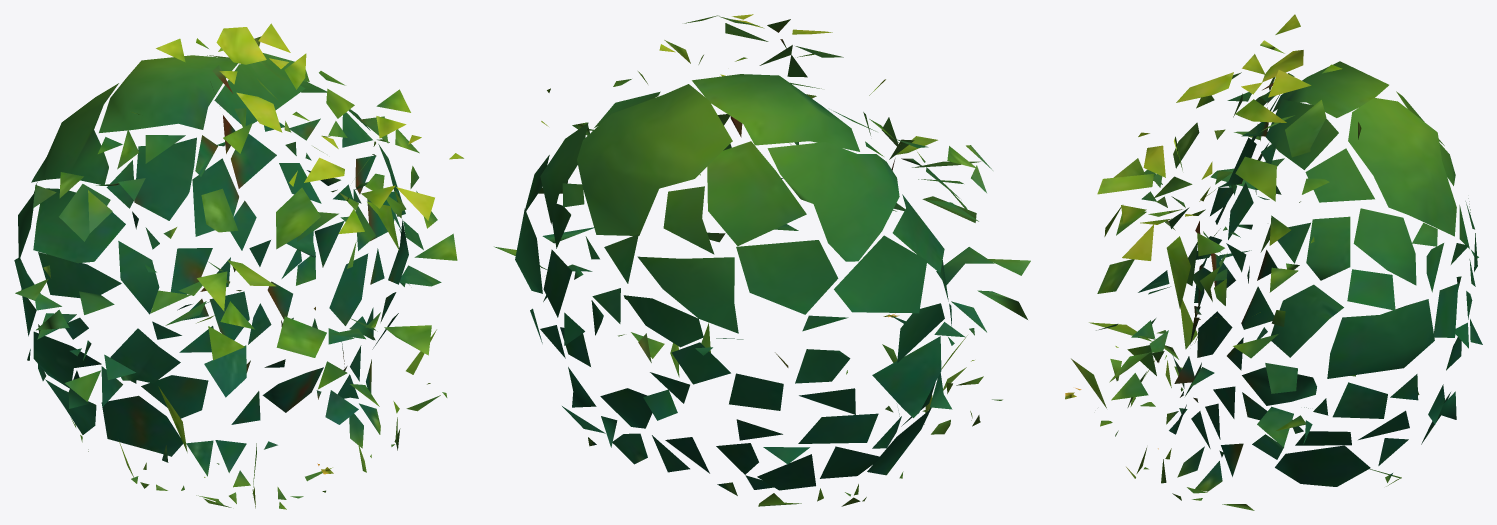
File: bush.glb
The picture shows the model from 3 angles, left to right: view 1: azimuth 30°, elevation 25°; view 2: azimuth 150°, elevation 25°; view 3: azimuth 270°, elevation 25°; orthographic projection. The views are drawn at different scales.
Parts seen in each view (by area): view 1: tripo_node_d8295d0c-7753-48f7-ad59-df46e1675239; view 2: tripo_node_d8295d0c-7753-48f7-ad59-df46e1675239; view 3: tripo_node_d8295d0c-7753-48f7-ad59-df46e1675239.
Part boxes in pixels (x1,y1,x2,y2): tripo_node_d8295d0c-7753-48f7-ad59-df46e1675239: (14,23,463,509); tripo_node_d8295d0c-7753-48f7-ad59-df46e1675239: (494,14,1030,506); tripo_node_d8295d0c-7753-48f7-ad59-df46e1675239: (1065,14,1482,510).
Size of the model in its own units: 0.9122 by 0.7775 by 0.7182.
Materials: 1 (1 with a texture image).
